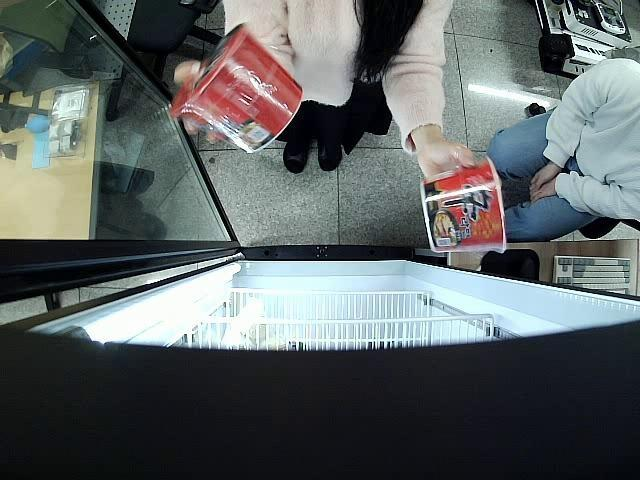01_ShinRamen_L: (170, 26, 304, 154), (422, 156, 507, 252)
